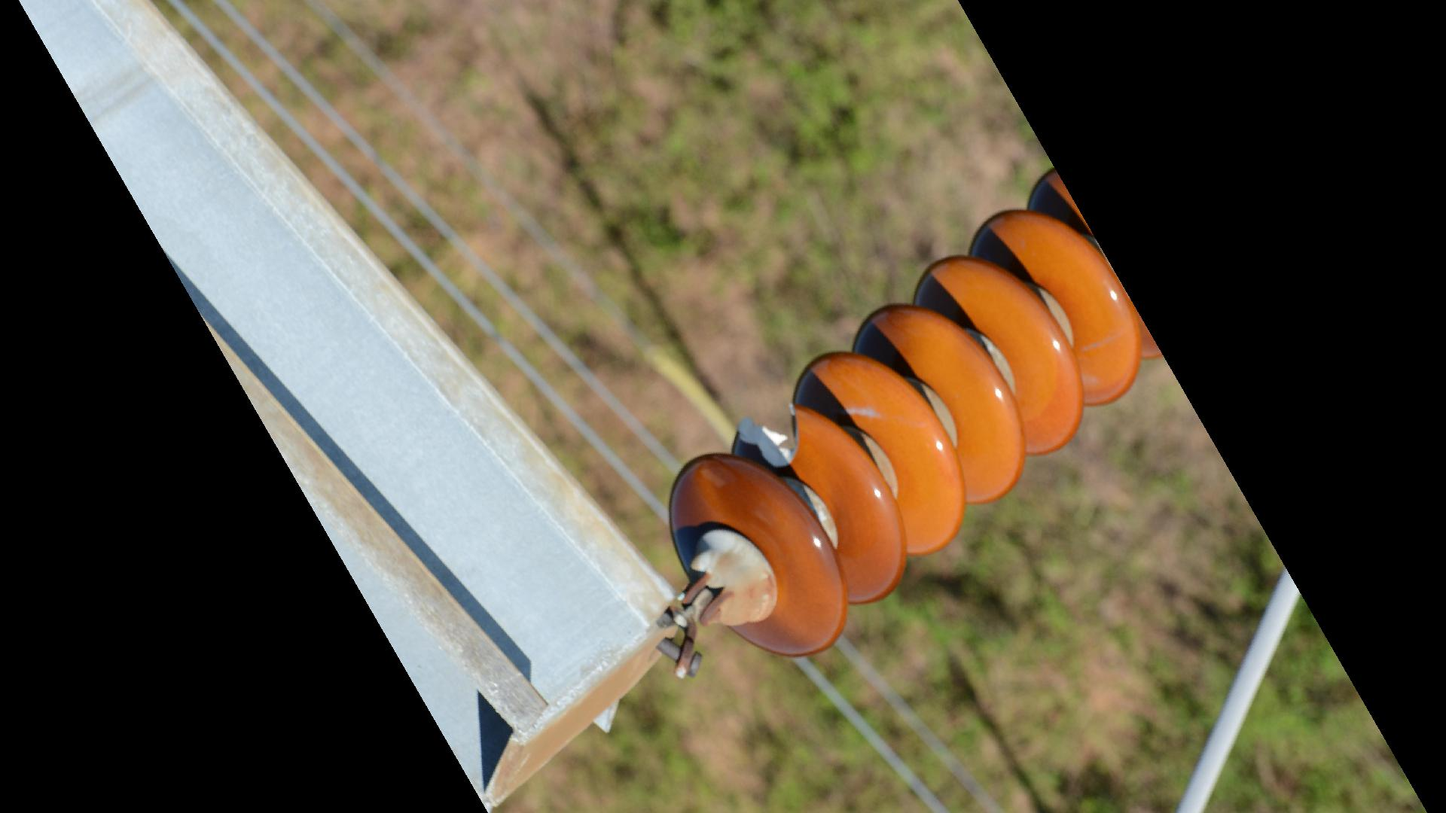insulator: (659, 163, 1154, 665)
insulator_breakage: (727, 392, 831, 478)
